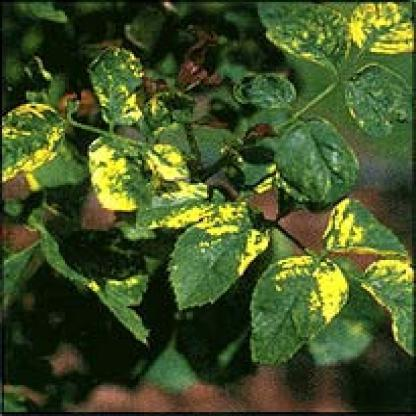Tomato leaf mosaic virus: (252, 256, 339, 372), (172, 214, 270, 314), (274, 117, 359, 202), (252, 4, 351, 69), (79, 44, 148, 131), (339, 60, 408, 141), (231, 73, 300, 114)
